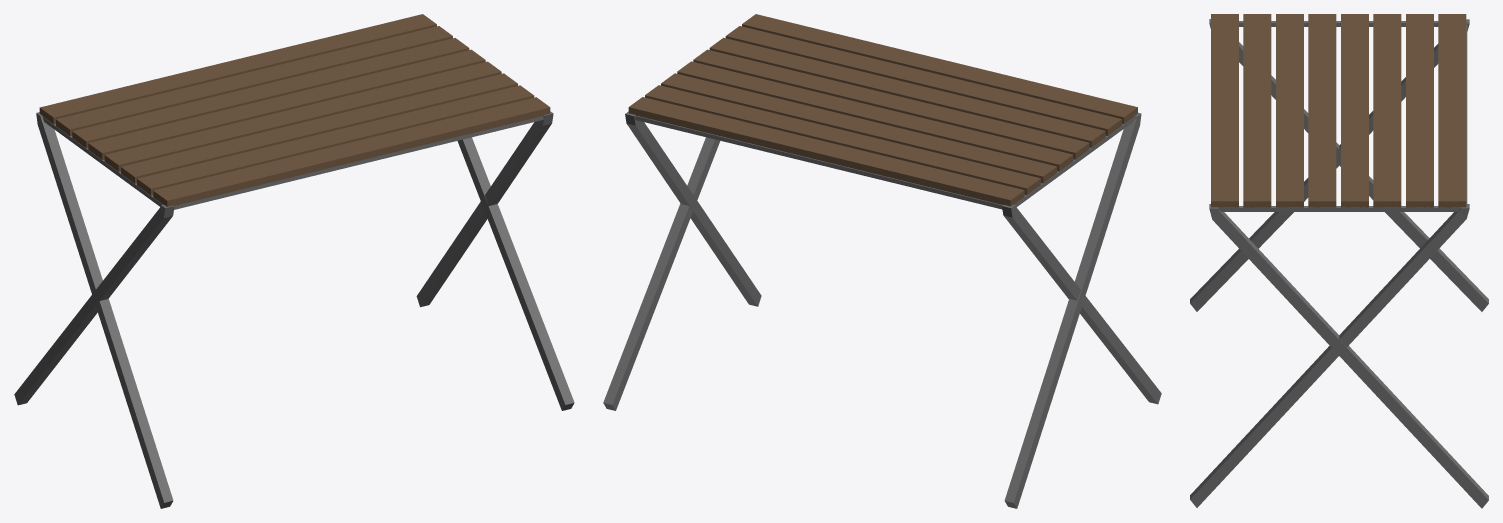
The model's file is table.fbx.
The picture shows the model from 3 angles, left to right: view 1: azimuth 30°, elevation 25°; view 2: azimuth 150°, elevation 25°; view 3: azimuth 270°, elevation 25°; orthographic projection.
Parts seen in each view (by area): view 1: Table; view 2: Table; view 3: Table.
Boxes of the visible parts, box(x1,y1,x2,y2) form: Table: box(14, 14, 574, 508); Table: box(603, 14, 1161, 508); Table: box(1190, 14, 1488, 508).
Bounding box in the file's own units: 152 × 106 × 95.17.
